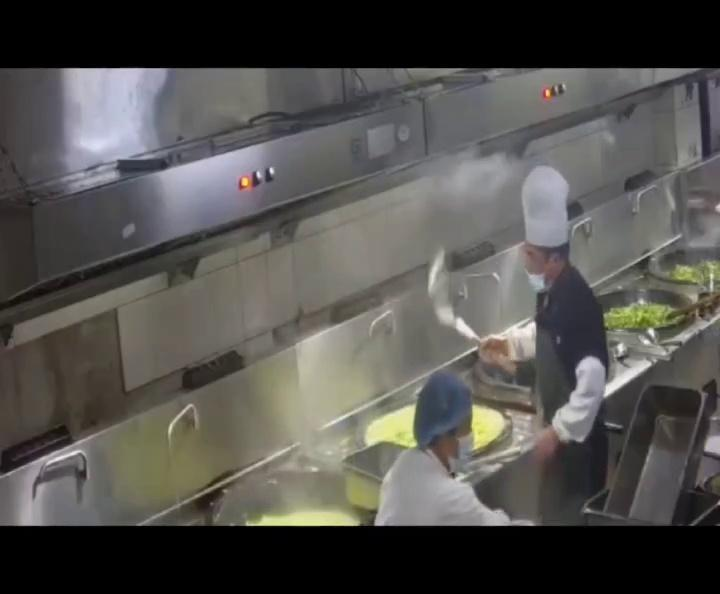mask: (526, 250, 554, 291)
